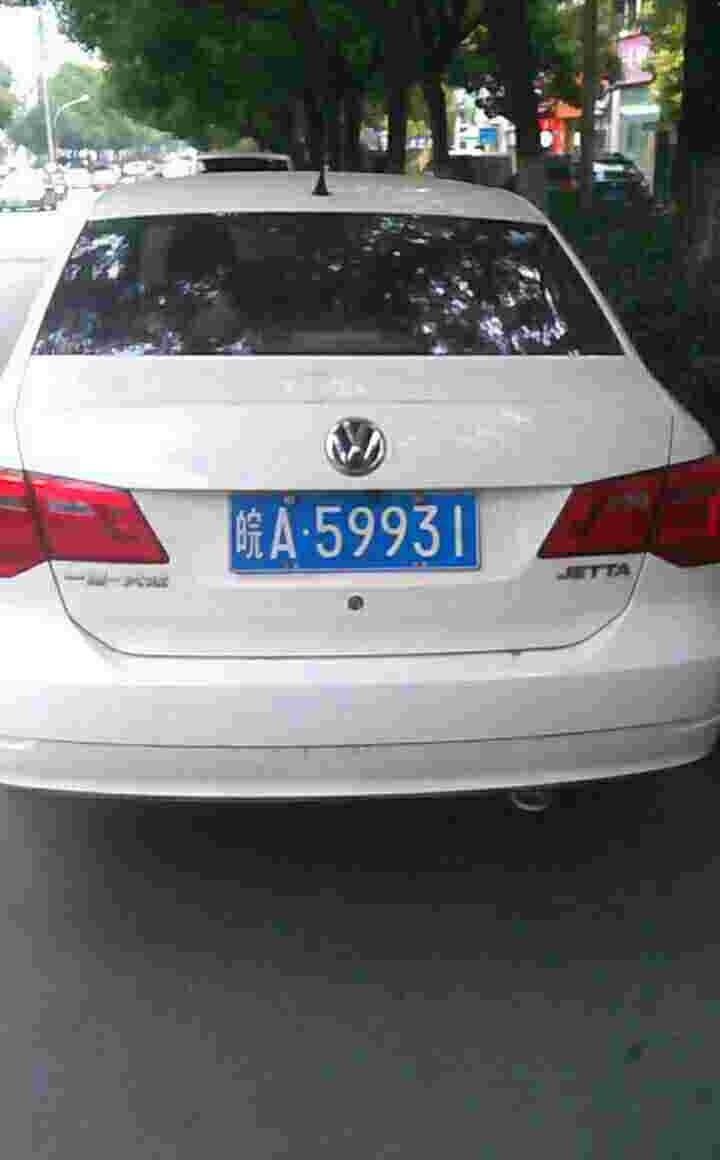plate: (232, 487, 486, 577)
